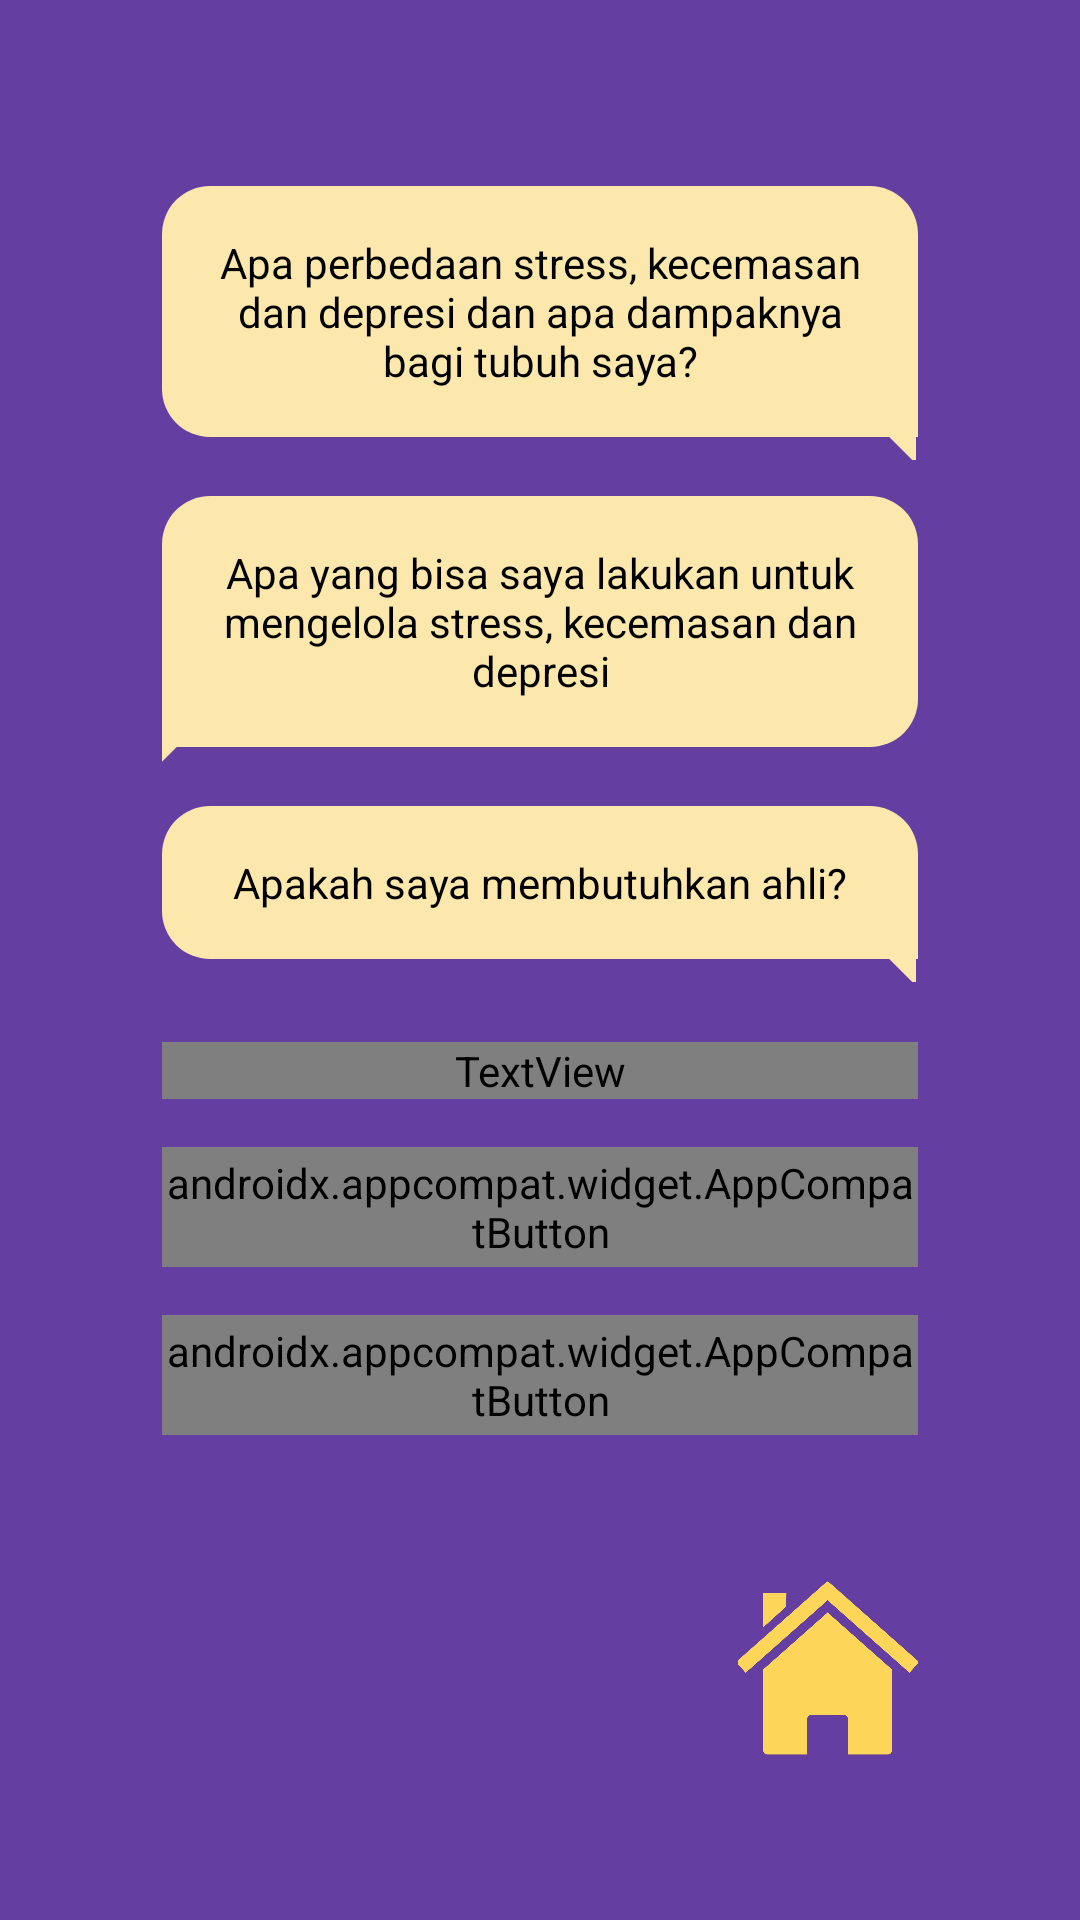

Icons on this 1080×1920 Android screen, each with the point to tap as [x,y]:
Icon home: [828,1668]
